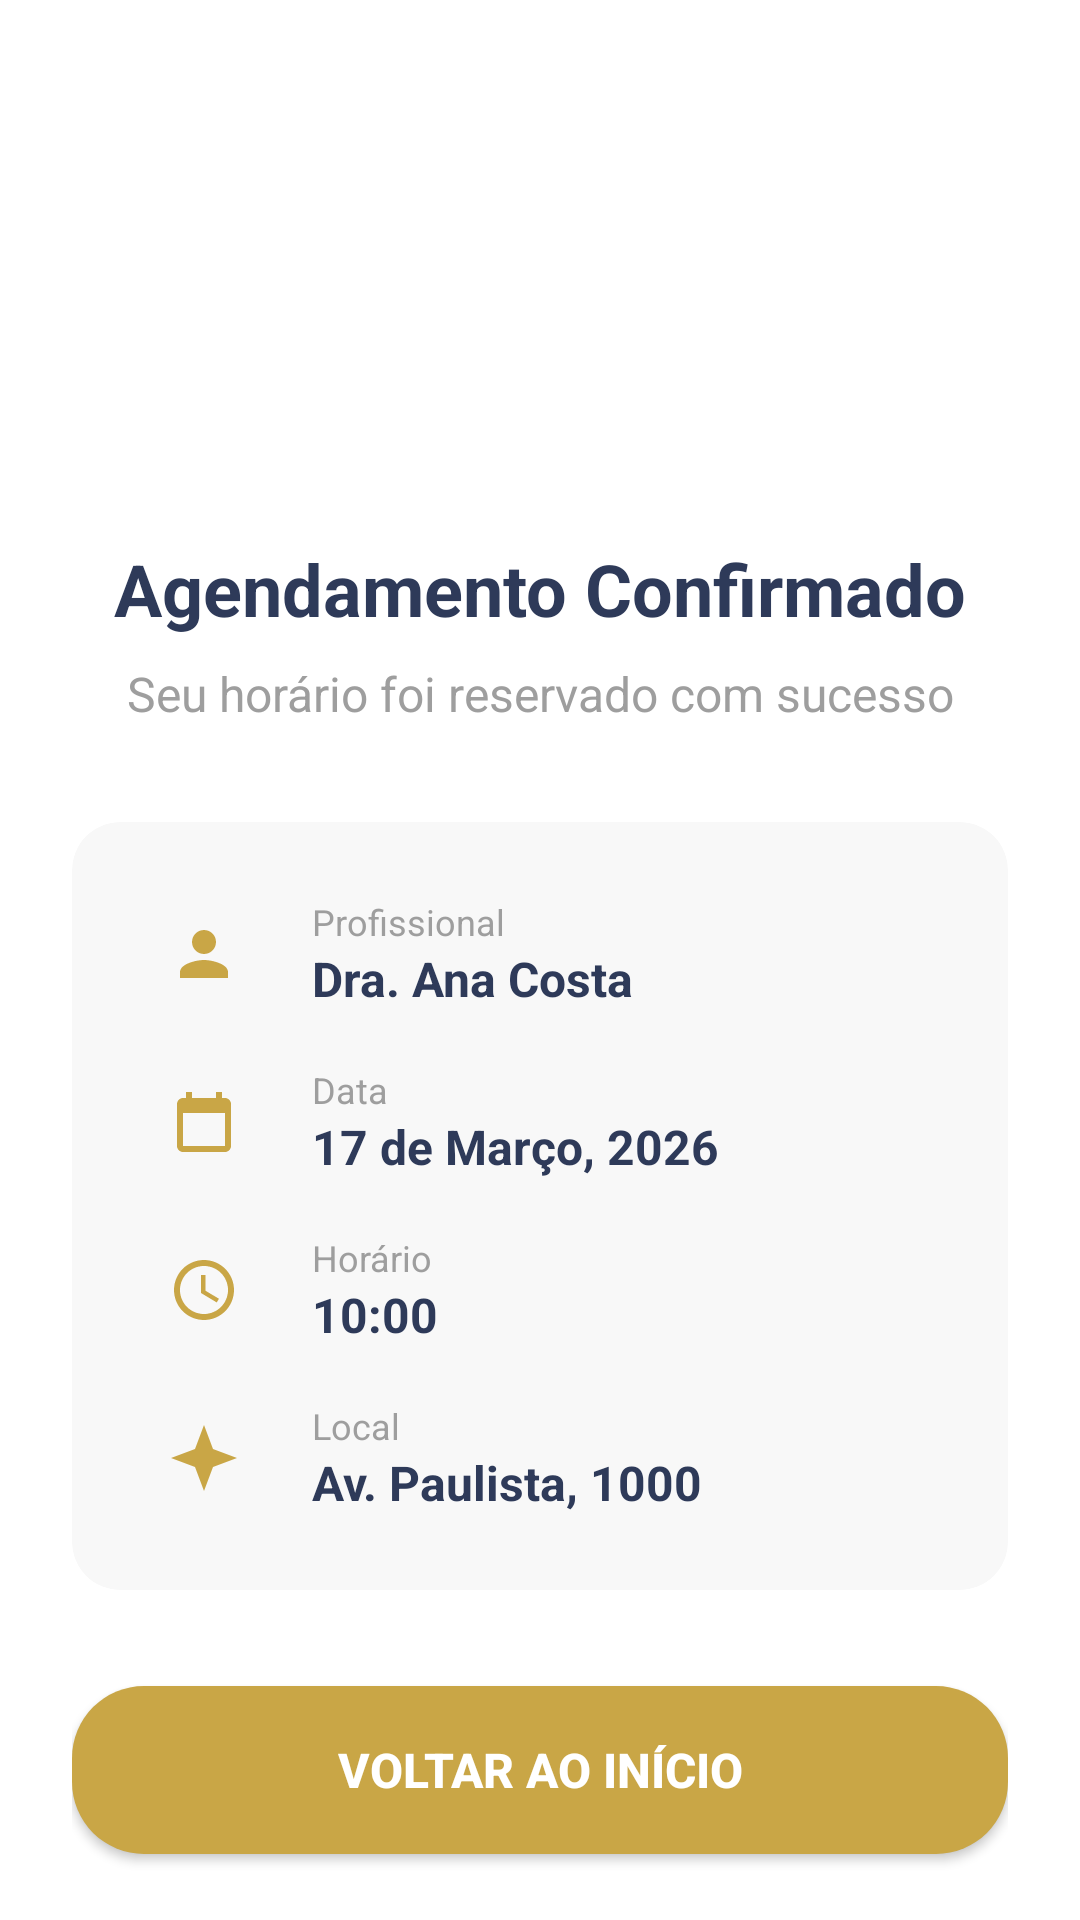

Icon click points for this 1080×1920 phone screenshot, format (x=x, y=y):
calendar icon: (x=204, y=1122)
clock: (x=204, y=1290)
icon person: (x=204, y=954)
sparkle: (x=204, y=1458)
